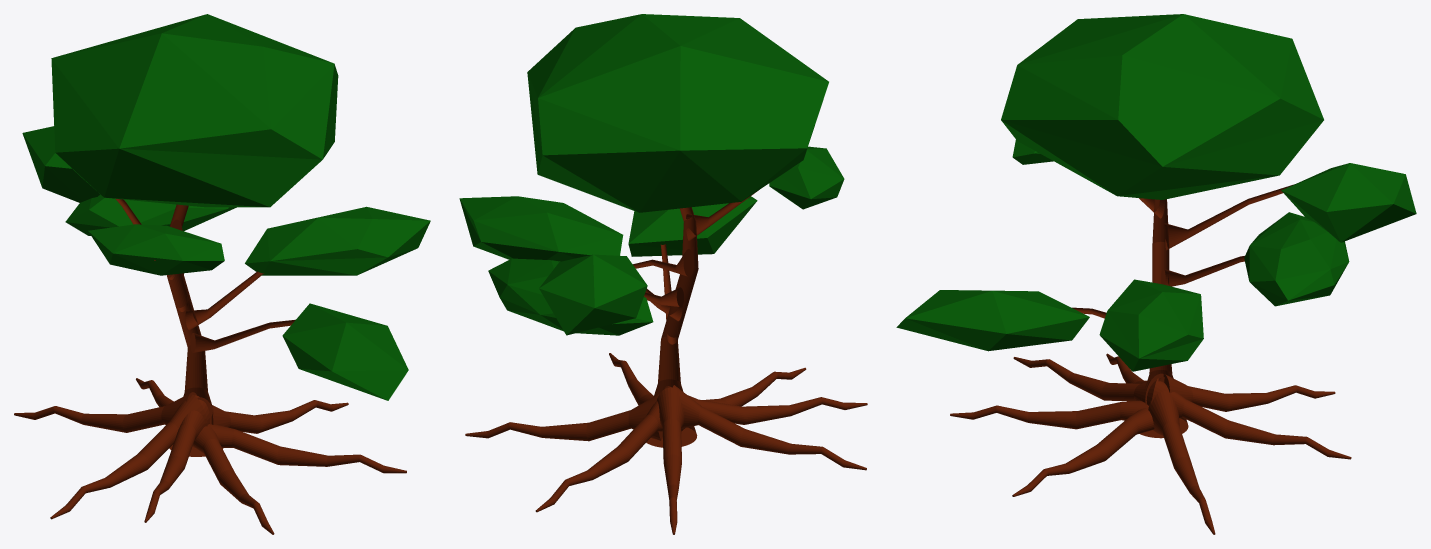
Rendered from NurvoArbol.fbx.
3 renders of one model, left to right at view 1: azimuth 30°, elevation 25°; view 2: azimuth 150°, elevation 25°; view 3: azimuth 270°, elevation 25°, orthographic.
Parts seen in each view (by area): view 1: Icosphere.002, Cylinder.007, Icosphere.004, Icosphere.001, Icosphere.005, Icosphere.003, Icosphere; view 2: Icosphere.002, Cylinder.007, Icosphere.004, Icosphere, Icosphere.003, Icosphere.001, Icosphere.005; view 3: Icosphere.002, Cylinder.007, Icosphere.001, Icosphere.004, Icosphere.003, Icosphere.
Boxes of the visible parts, left/top/right/bottom form: Icosphere.002: left=51, top=14, right=338, bottom=207; Cylinder.007: left=14, top=198, right=406, bottom=534; Icosphere.004: left=245, top=206, right=430, bottom=275; Icosphere.001: left=282, top=303, right=408, bottom=400; Icosphere.005: left=88, top=224, right=224, bottom=275; Icosphere.003: left=65, top=194, right=236, bottom=235; Icosphere: left=22, top=126, right=100, bottom=202; Icosphere.002: left=527, top=14, right=828, bottom=212; Cylinder.007: left=465, top=190, right=867, bottom=534; Icosphere.004: left=459, top=196, right=623, bottom=261; Icosphere: left=539, top=254, right=647, bottom=335; Icosphere.003: left=488, top=258, right=653, bottom=335; Icosphere.001: left=628, top=196, right=757, bottom=256; Icosphere.005: left=769, top=146, right=844, bottom=209; Icosphere.002: left=1001, top=14, right=1323, bottom=199; Cylinder.007: left=950, top=184, right=1351, bottom=534; Icosphere.001: left=896, top=290, right=1089, bottom=351; Icosphere.004: left=1099, top=279, right=1203, bottom=371; Icosphere.003: left=1244, top=212, right=1349, bottom=306; Icosphere: left=1281, top=163, right=1416, bottom=242.
Bounding box in the file's own units: 851 × 887 × 986.
